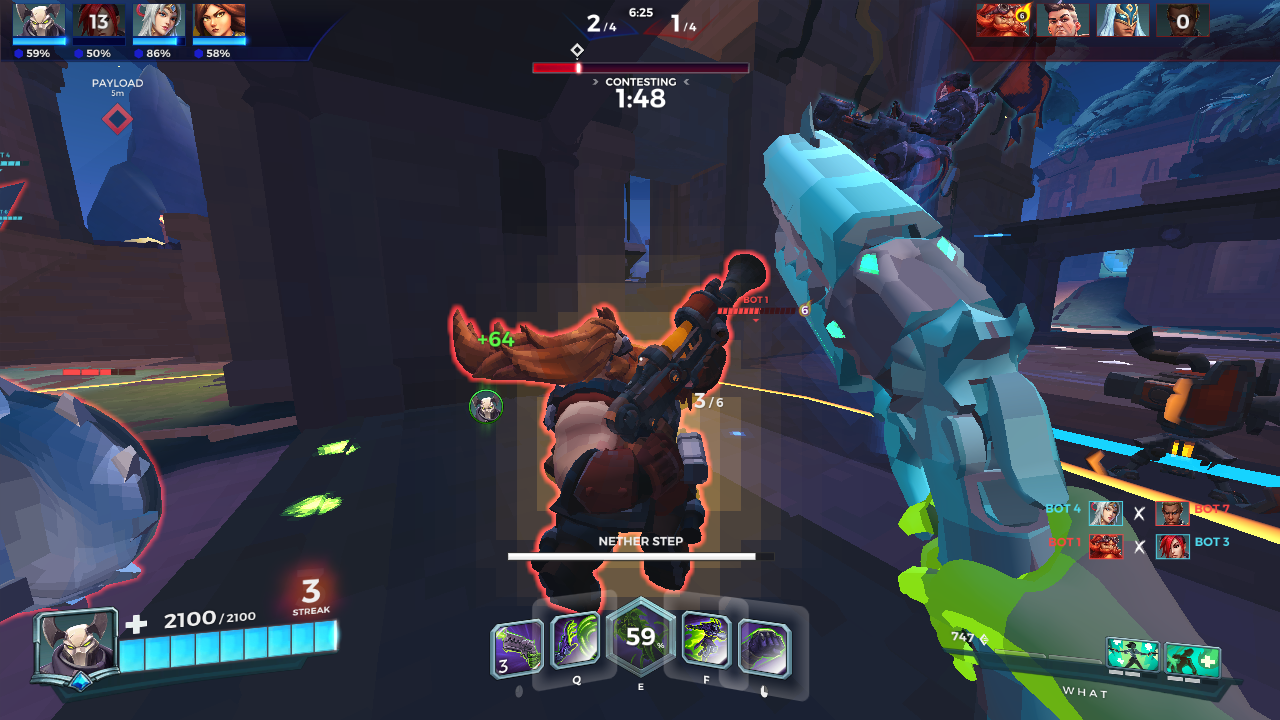model: (526, 293, 707, 590)
